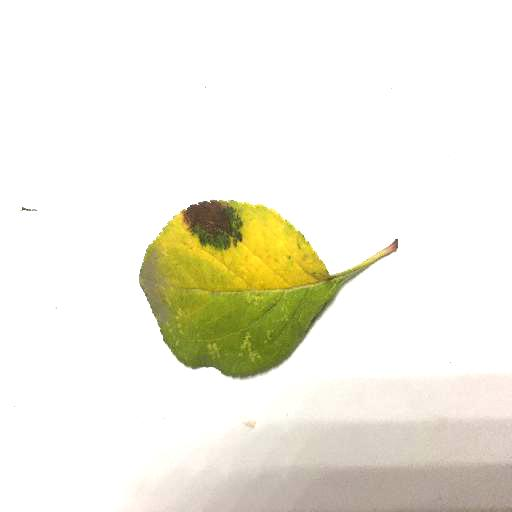Brown_Spot: (177, 193, 250, 252)
